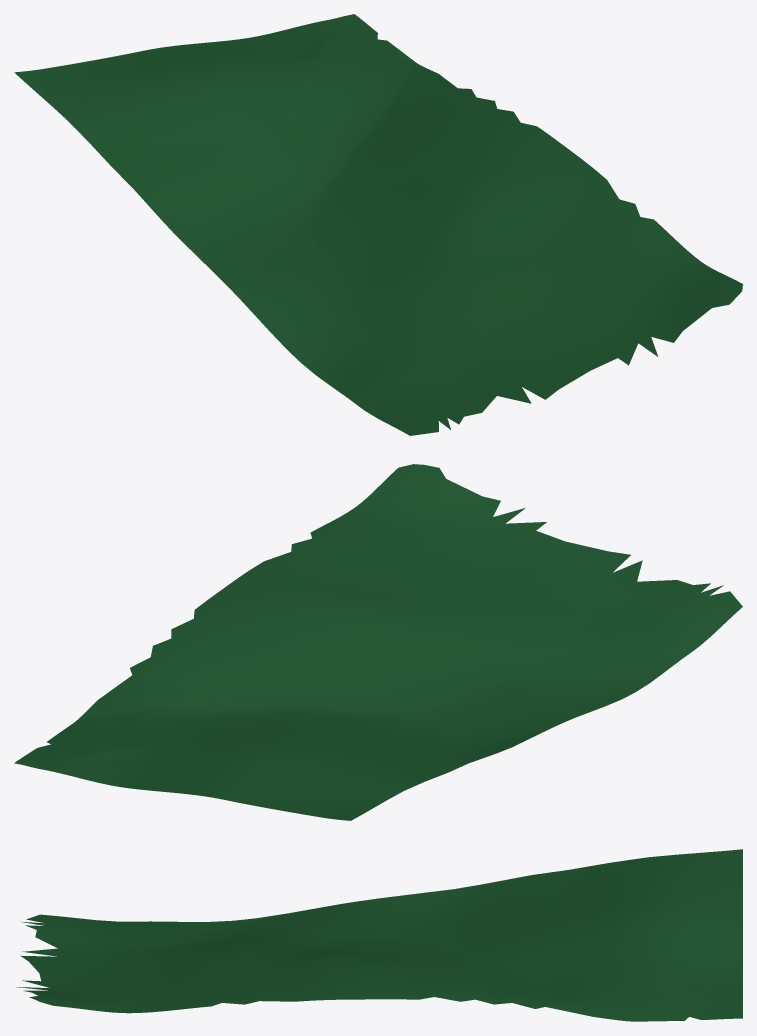
The model's file is payo_land_x4_y3.glb.
3 views of the same model, one above another, from view 1: azimuth 30°, elevation 25°; view 2: azimuth 150°, elevation 25°; view 3: azimuth 270°, elevation 25° (orthographic). The views are drawn at different scales.
Visible parts, largest first — view 1: payo_land_x4_y3; view 2: payo_land_x4_y3; view 3: payo_land_x4_y3.
Part boxes in pixels (box(x1,y1,x2,y2)): payo_land_x4_y3: box(14, 14, 742, 435); payo_land_x4_y3: box(14, 464, 742, 820); payo_land_x4_y3: box(16, 849, 742, 1021).
Bounding box in the file's own units: 126 × 29 × 263.
